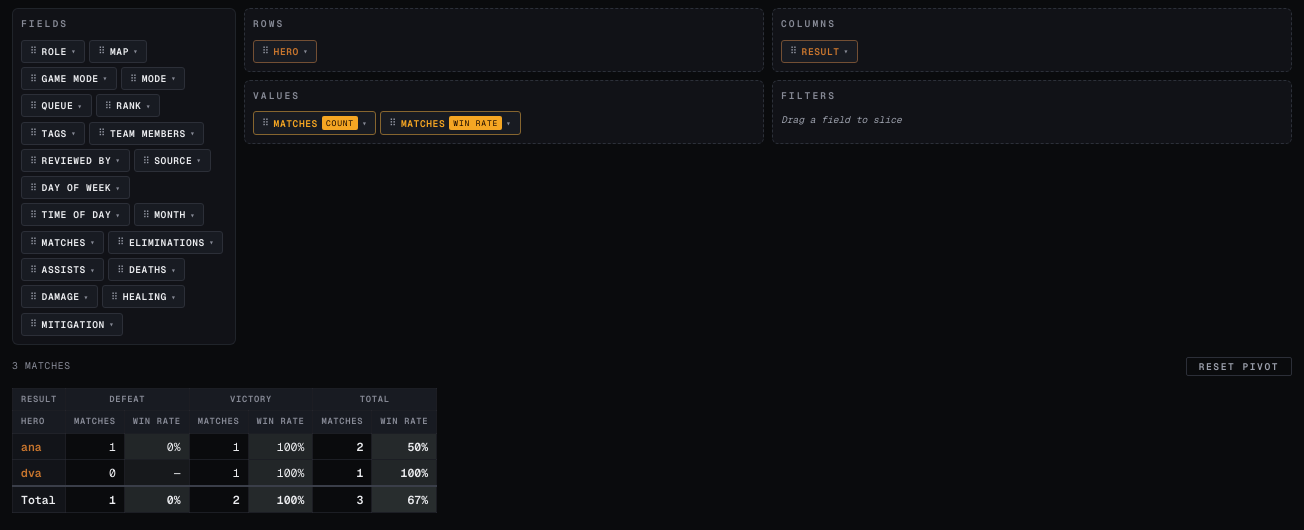
Scenario: PivotTable — value shelf › drops a value spec and keeps the remaining one
Click the button "⠿ Matches Count ▾" at {"x": 315, "y": 123}, box [253,111,376,135]
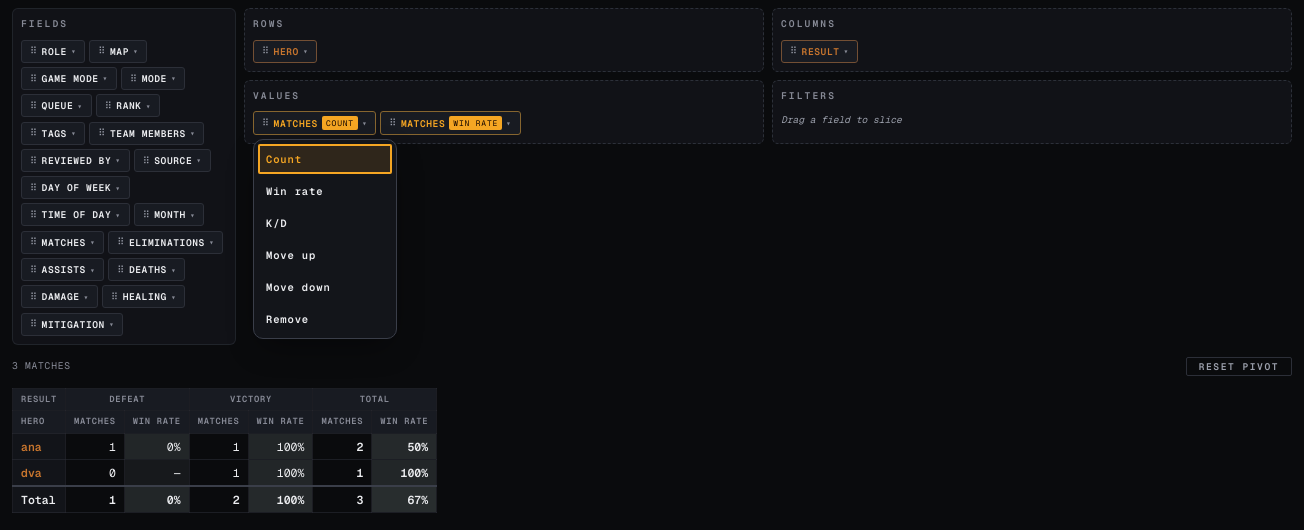
Click the menu item "Remove" at {"x": 325, "y": 319}, box [258,304,392,334]
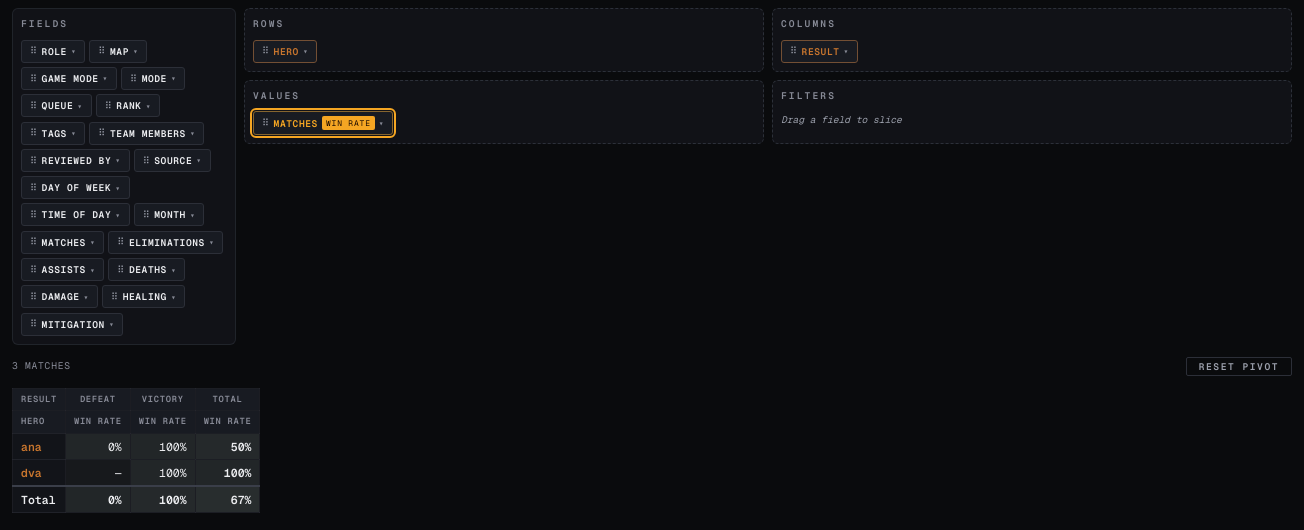
expect the button "Matches Count" is gone: met
expect the button "⠿ Matches Win rate ▾" is shown: met, box [253,111,393,135]
